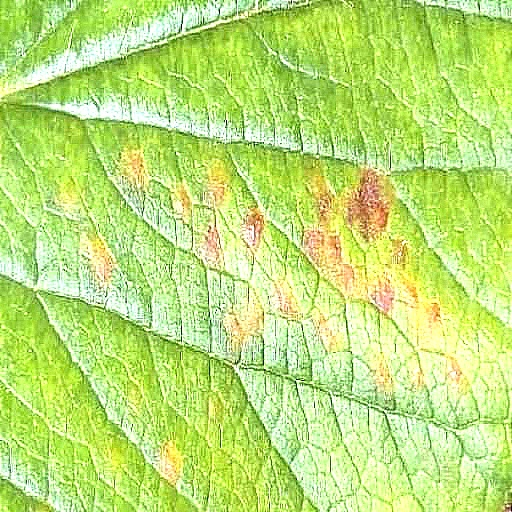Angular Leafspot: (52, 142, 488, 493)
